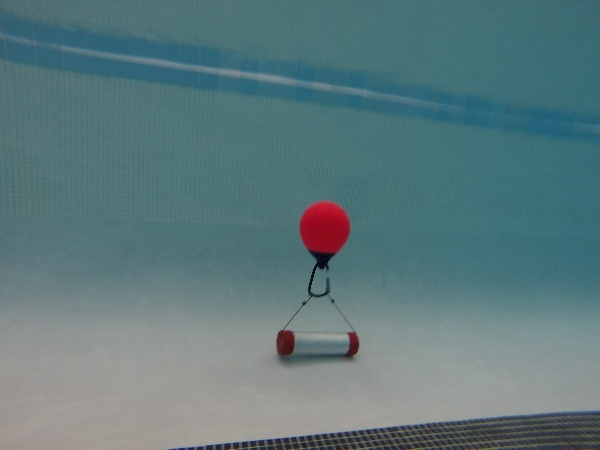buoy_red: (294, 201, 353, 270)
